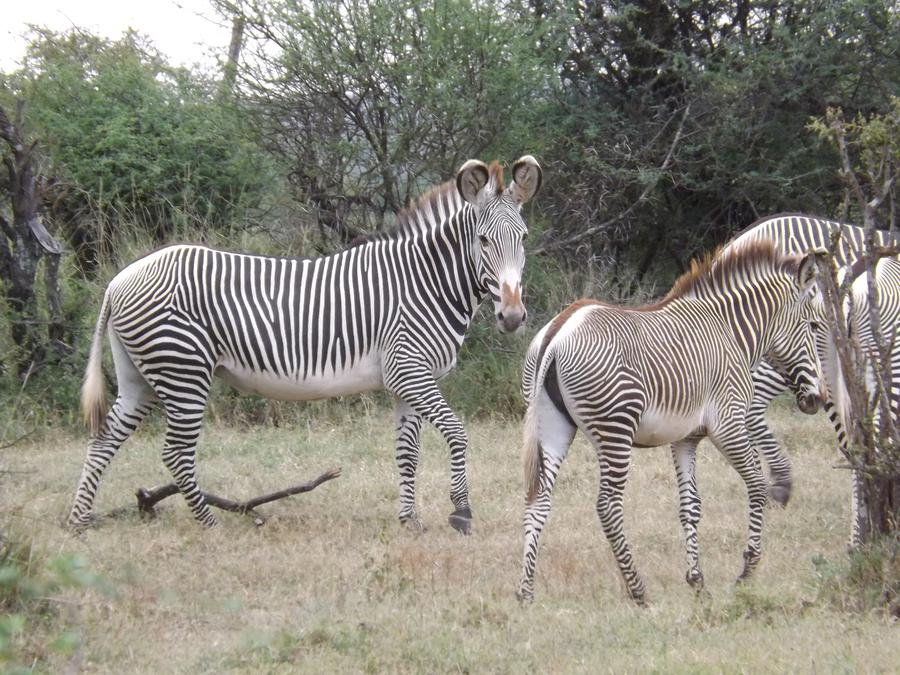zebra_grevys: (97, 230, 448, 379)
